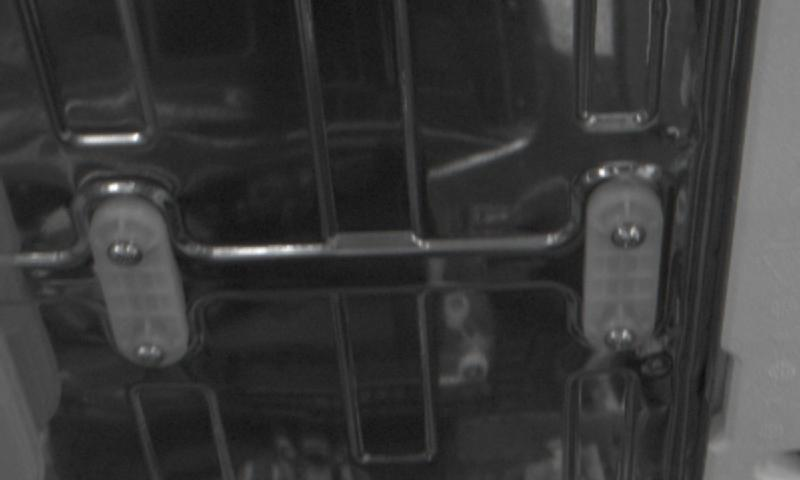vida-ok: (100, 232, 146, 276), (606, 220, 653, 263), (599, 322, 645, 362), (126, 336, 171, 375)
